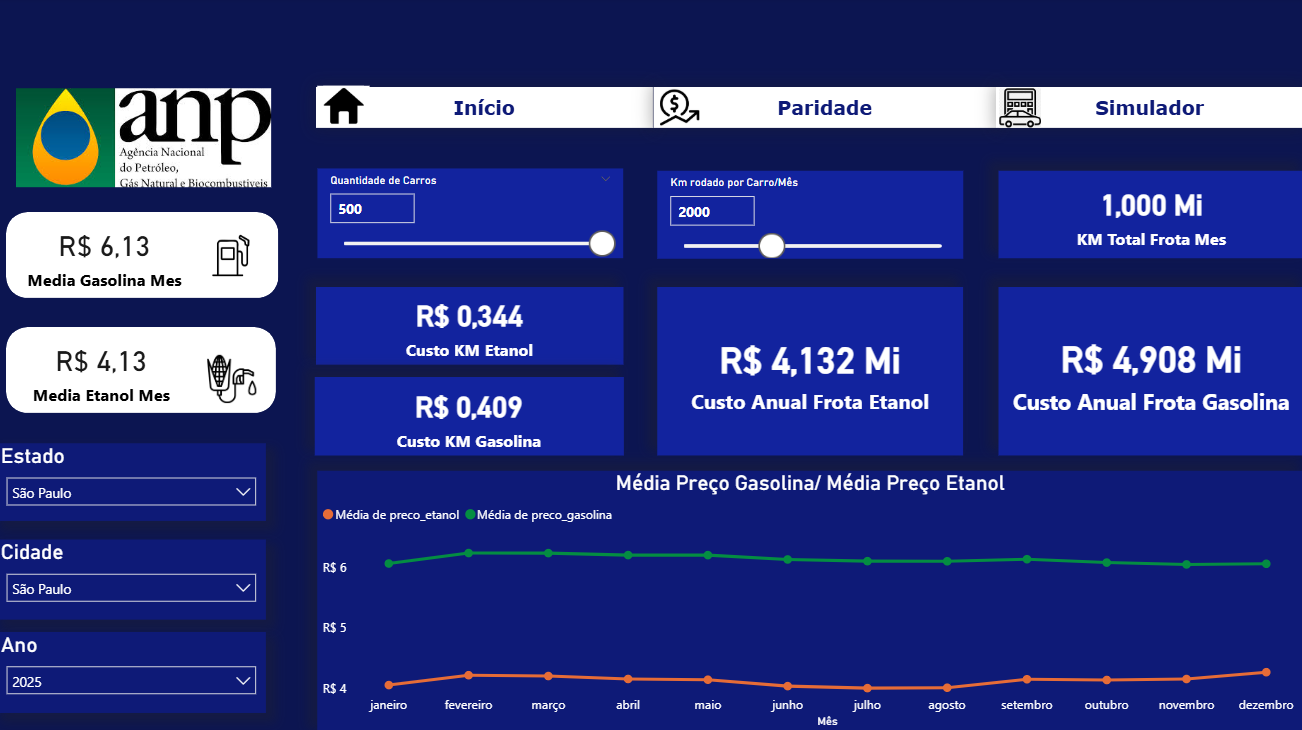

The dashboard page shown, as its layout file describes it:
{"tool":"powerbi","page":{"name":"Simulador","canvas":[1280,720],"ordinal":2},"visuals":[{"type":"shape","box":[1.2,0,1279.1,720.2],"z":0},{"type":"lineChart","title":"Média Preço Gasolina/ Média Preço Etanol","fields":{"Y":["Avg(Gasolina/Etanol.preco_etanol)","Avg(Gasolina/Etanol.preco_gasolina)"],"Category":["Gasolina/Etanol.ano_mes.Variation.Hierarquia de datas.Mês"]},"box":[314.3,463.5,964.8,256.8],"z":1000},{"type":"slicer","title":"Estado","fields":{"Values":["Gasolina/Etanol.sigla_uf_nome"]},"box":[0,436.6,264.1,75.8],"z":2000},{"type":"slicer","title":"Cidade","fields":{"Values":["Gasolina/Etanol.id_municipio_nome"]},"box":[0,530.7,264.1,78.3],"z":3000},{"type":"slicer","title":"Ano","fields":{"Values":["Gasolina/Etanol.Ano"]},"box":[0,621.2,264.1,79.5],"z":4000},{"type":"actionButton","box":[313.6,88.4,329.3,39.9],"z":5000},{"type":"image","box":[313.9,88.5,51.4,40],"z":6000},{"type":"actionButton","box":[642.9,88.4,335,39.9],"z":7000},{"type":"image","box":[642.9,89.8,51.3,38.5],"z":8000},{"type":"actionButton","box":[977.8,88.4,300.8,39.9],"z":9000},{"type":"image","box":[977.8,89.8,47,38.5],"z":10000},{"type":"image","box":[19.6,89.3,249.5,96.6],"z":11000},{"type":"slicer","fields":{"Values":["Quantidade de Carros.Quantidade de Carros"]},"box":[314.3,167.5,299.6,88],"z":12000},{"type":"slicer","fields":{"Values":["Km rodado por Carro/Mês.Km rodado por Carro/Mês"]},"box":[646.9,170,299.6,85.6],"z":13000},{"type":"card","fields":{"Values":["Gasolina/Etanol.KM Total Frota Mes"]},"box":[980.7,170,299.6,85.6],"z":14000},{"type":"card","fields":{"Values":["Gasolina/Etanol.Custo Anual Frota Gasolina"]},"box":[980.7,283.7,299.6,165.1],"z":15000},{"type":"card","fields":{"Values":["Gasolina/Etanol.Custo Anual Frota Etanol"]},"box":[646.9,283.7,299.6,165.1],"z":16000},{"type":"shape","box":[9.8,210.3,266.6,84.4],"z":21000},{"type":"image","box":[199.8,223,61.1,61.1],"z":22000},{"type":"shape","box":[9.8,322.8,264.1,84.4],"z":23000},{"type":"card","fields":{"Values":["Gasolina/Etanol.Media Gasolina Selecionada"]},"box":[22.5,218.2,168.8,70.9],"z":24000},{"type":"image","box":[206.7,346.1,47.7,55],"z":25000},{"type":"card","fields":{"Values":["Gasolina/Etanol.Media Etanol Selecionada"]},"box":[26.9,330.2,152.9,70.9],"z":26000},{"type":"card","fields":{"Values":["Gasolina/Etanol.Custo KM Etanol"]},"box":[313,283.7,300.8,75.8],"z":26001},{"type":"card","fields":{"Values":["Gasolina/Etanol.Custo KM Gasolina"]},"box":[311.8,371.7,302,77],"z":26002}]}

Visuals, with their boxes in screenshot pixels (x1, y1, x2, y2), scaled from the page's 1280x720 canvas onto the 1302x730 screenshot:
shape: 1, 0, 1301, 729
"Média Preço Gasolina/ Média Preço Etanol" lineChart: 320, 470, 1301, 729
"Estado" slicer: 0, 443, 269, 520
"Cidade" slicer: 0, 538, 269, 617
"Ano" slicer: 0, 630, 269, 710
actionButton: 319, 90, 654, 130
image: 319, 90, 372, 130
actionButton: 654, 90, 995, 130
image: 654, 91, 706, 130
actionButton: 995, 90, 1301, 130
image: 995, 91, 1042, 130
image: 20, 91, 274, 188
slicer - Quantidade de Carros.Quantidade de Carros: 320, 170, 624, 259
slicer - Km rodado por Carro/Mês.Km rodado por Carro/Mês: 658, 172, 963, 259
card - Gasolina/Etanol.KM Total Frota Mes: 998, 172, 1301, 259
card - Gasolina/Etanol.Custo Anual Frota Gasolina: 998, 288, 1301, 455
card - Gasolina/Etanol.Custo Anual Frota Etanol: 658, 288, 963, 455
shape: 10, 213, 281, 299
image: 203, 226, 265, 288
shape: 10, 327, 279, 413
card - Gasolina/Etanol.Media Gasolina Selecionada: 23, 221, 195, 293
image: 210, 351, 259, 407
card - Gasolina/Etanol.Media Etanol Selecionada: 27, 335, 183, 407
card - Gasolina/Etanol.Custo KM Etanol: 318, 288, 624, 364
card - Gasolina/Etanol.Custo KM Gasolina: 317, 377, 624, 455
